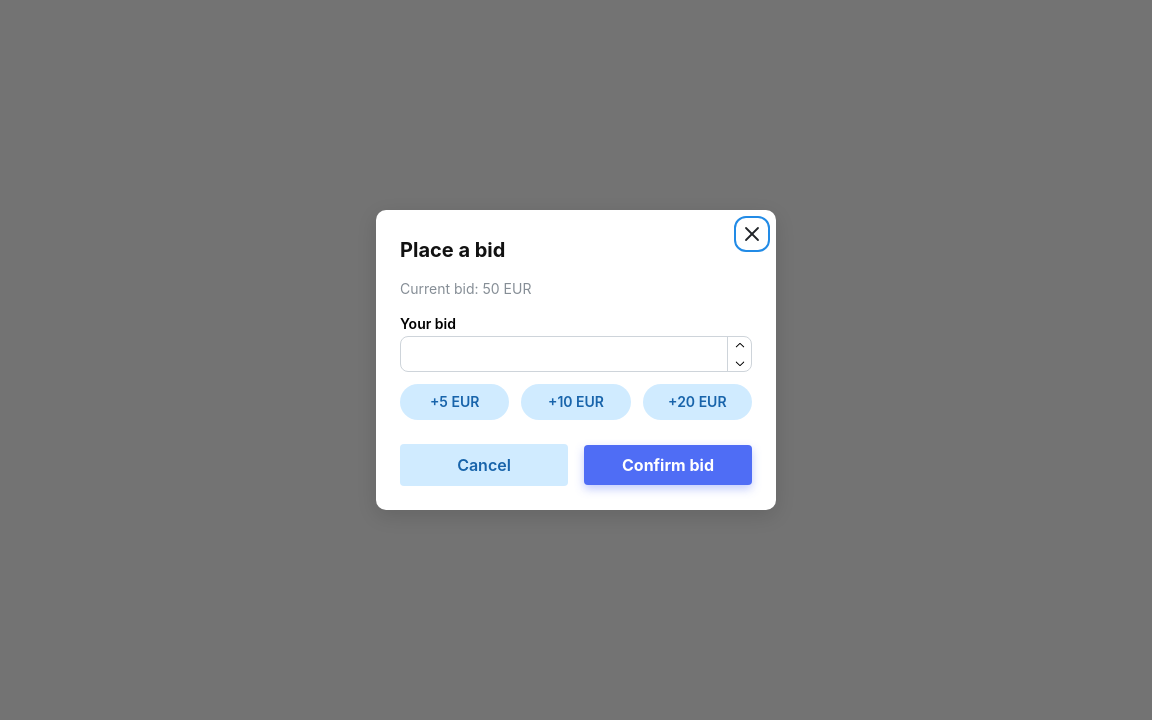
Scenario: PlaceBidModal › shows error if bid is empty
Click the button "Confirm bid".
click(668, 465)  # box [584,445,752,485]
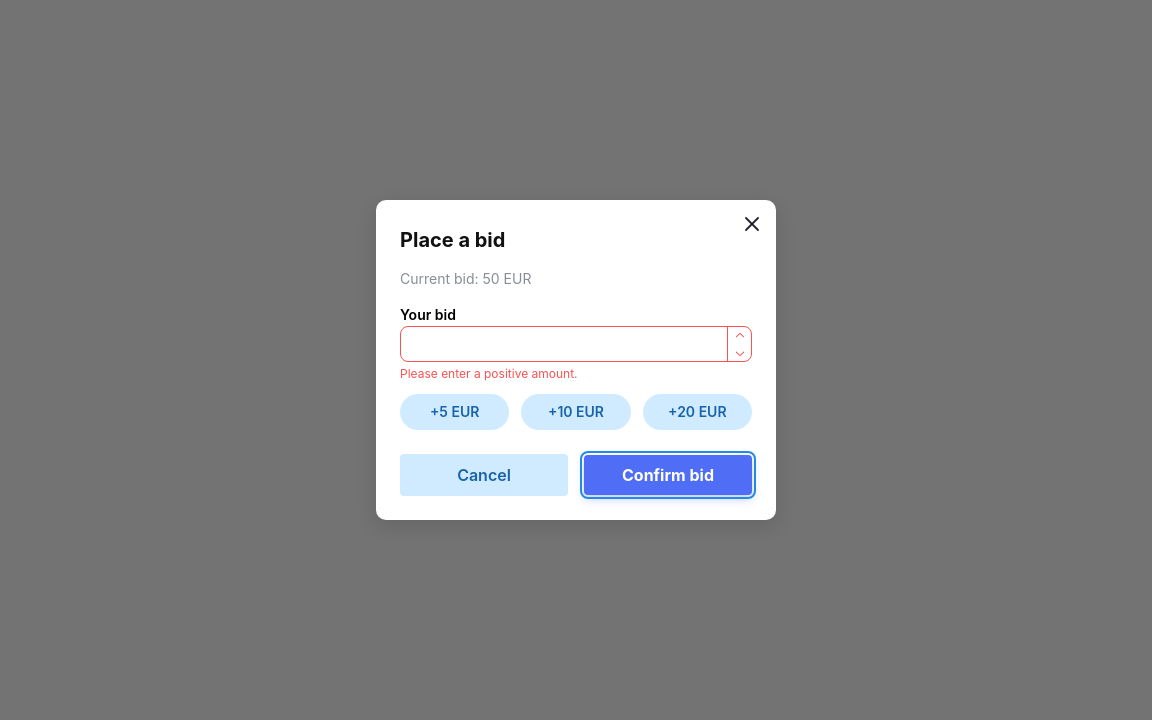
Check: the text "Please enter a positive amount." is shown, box [400,366,578,381]
